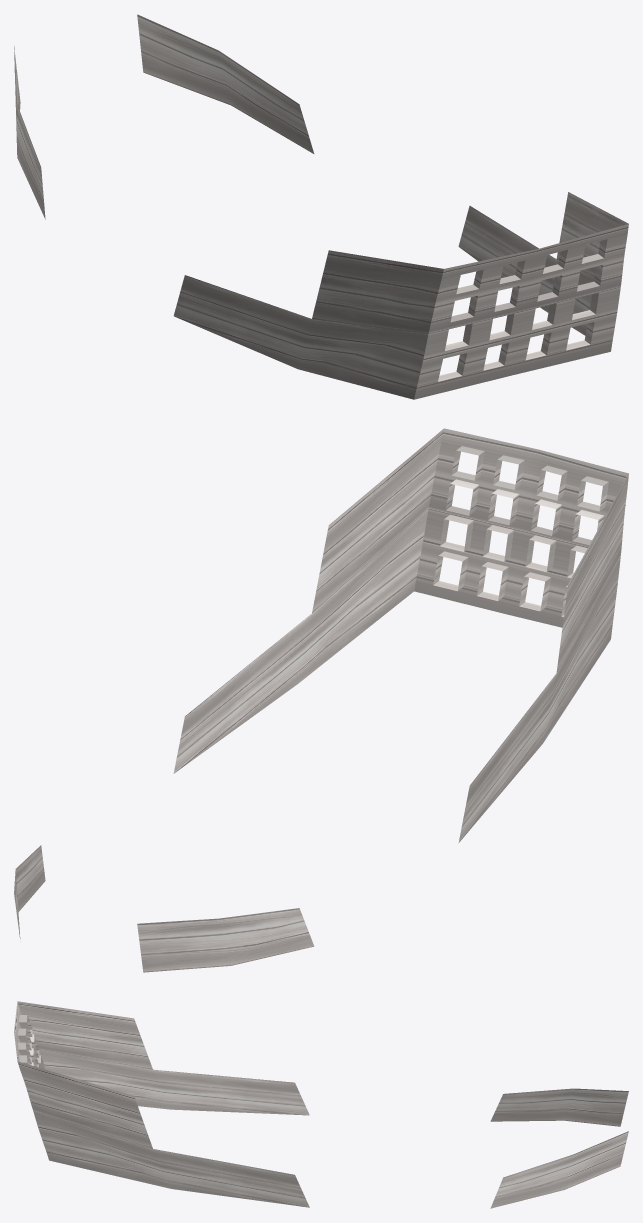
Rendered from A_HA_GEN_Ship_Hull_Colour_02.fbx.
3 views of the same model, one above another, from view 1: azimuth 30°, elevation 25°; view 2: azimuth 150°, elevation 25°; view 3: azimuth 270°, elevation 25° (orthographic). The views are drawn at different scales.
Visible parts, largest first — view 1: A_HA_Gen_Ship_Hull_Colour_02; view 2: A_HA_Gen_Ship_Hull_Colour_02; view 3: A_HA_Gen_Ship_Hull_Colour_02.
Boxes of the visible parts, x1,y1,x2,y2 form: A_HA_Gen_Ship_Hull_Colour_02: (14, 14, 628, 399); A_HA_Gen_Ship_Hull_Colour_02: (14, 428, 628, 972); A_HA_Gen_Ship_Hull_Colour_02: (14, 1001, 628, 1208).
Bounding box in the file's own units: 940 × 636 × 2647.
1 material, 1 textured.
